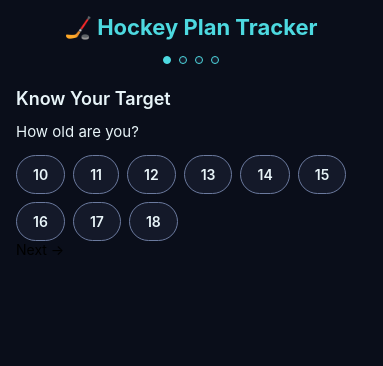
Test case: Onboarding › advances to position step after selecting age and pressing Next
Click the text "14": (265, 174) [258,166,273,183]
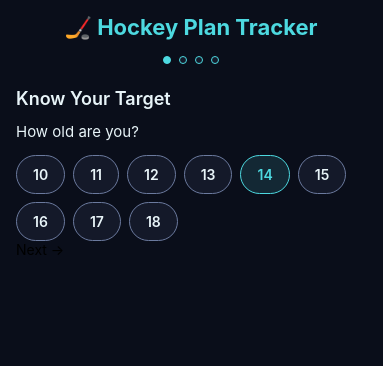
Click the text "Next →": (40, 250) [16,241,64,258]
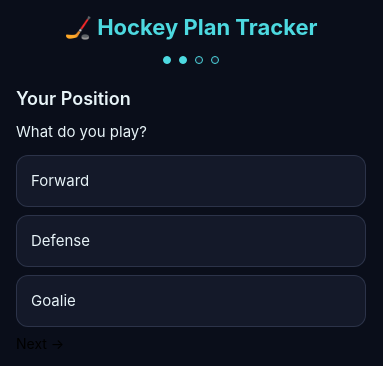
expect the text "Your Position" is shown: met, box [16,88,131,109]
